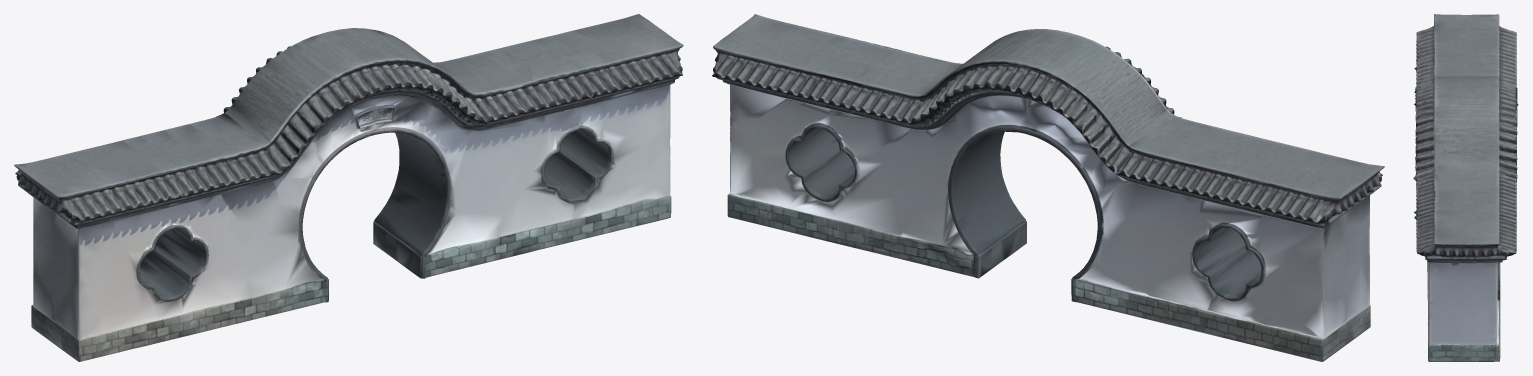
Rendered from arch_gate.glb.
The picture shows the model from 3 angles, left to right: view 1: azimuth 30°, elevation 25°; view 2: azimuth 150°, elevation 25°; view 3: azimuth 270°, elevation 25°; orthographic projection. The views are drawn at different scales.
Parts seen in each view (by area): view 1: tripo_node_deb475fb-2f4e-47d0-8c33-fea14c4b51a3; view 2: tripo_node_deb475fb-2f4e-47d0-8c33-fea14c4b51a3; view 3: tripo_node_deb475fb-2f4e-47d0-8c33-fea14c4b51a3.
Boxes of the visible parts, x1,y1,x2,y2 form: tripo_node_deb475fb-2f4e-47d0-8c33-fea14c4b51a3: [14, 14, 683, 361]; tripo_node_deb475fb-2f4e-47d0-8c33-fea14c4b51a3: [712, 14, 1384, 361]; tripo_node_deb475fb-2f4e-47d0-8c33-fea14c4b51a3: [1413, 14, 1518, 361].
Size of the model in its own units: 0.9842 by 0.3364 by 0.1909.
1 material, 1 textured.
